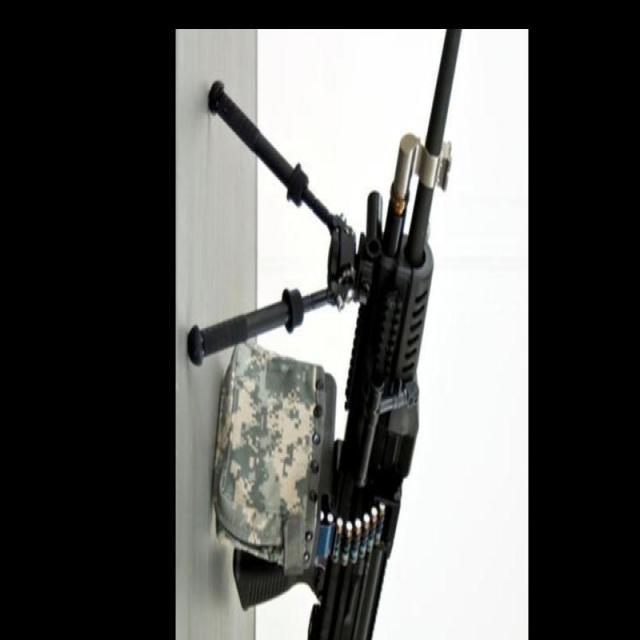weapon: (186, 29, 462, 640)
